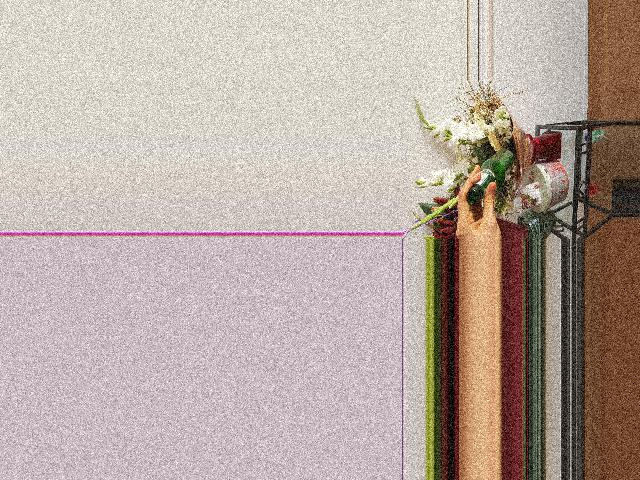beer: (466, 149, 514, 205)
